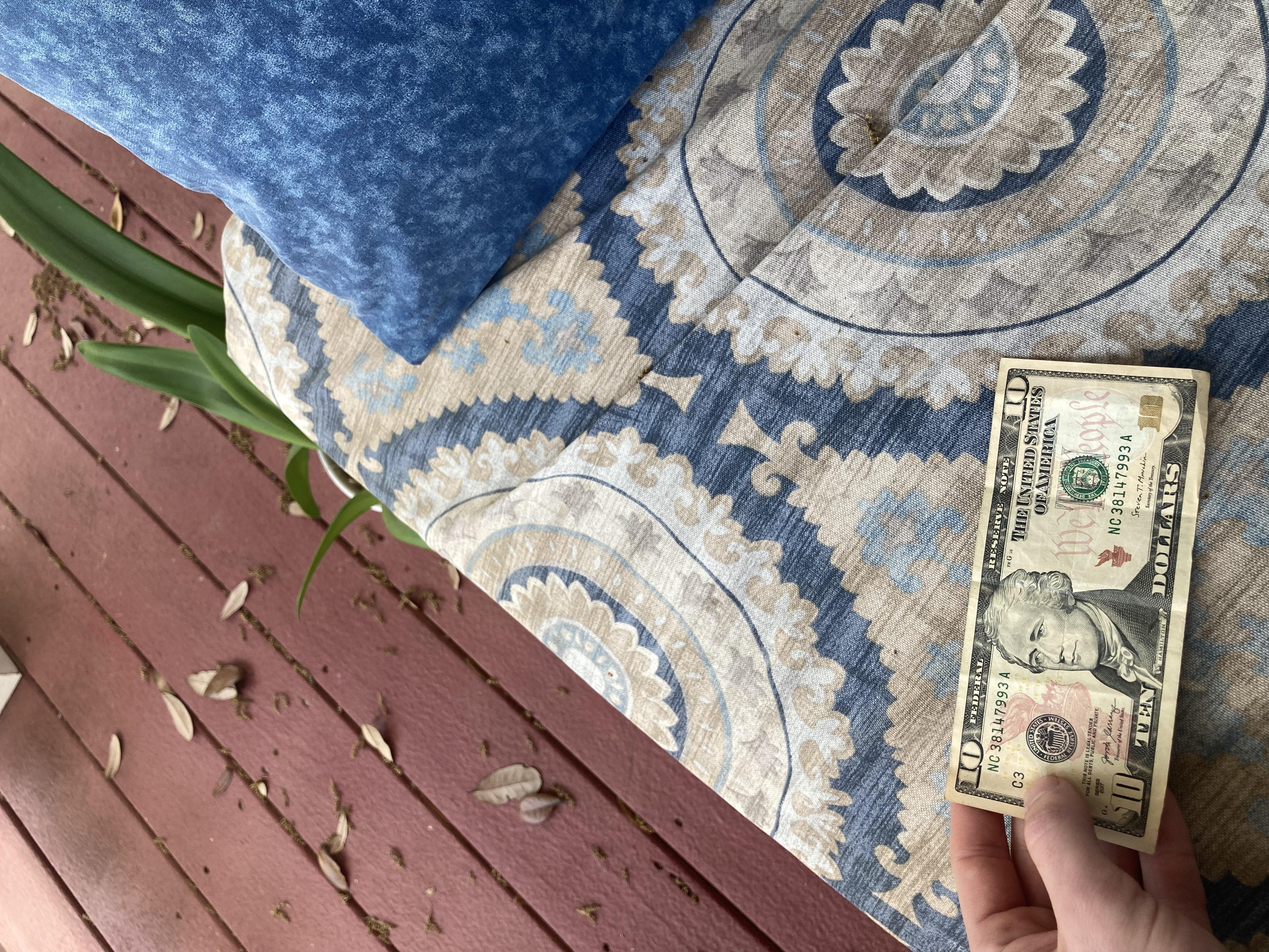ten-front: (128, 709, 794, 910)
